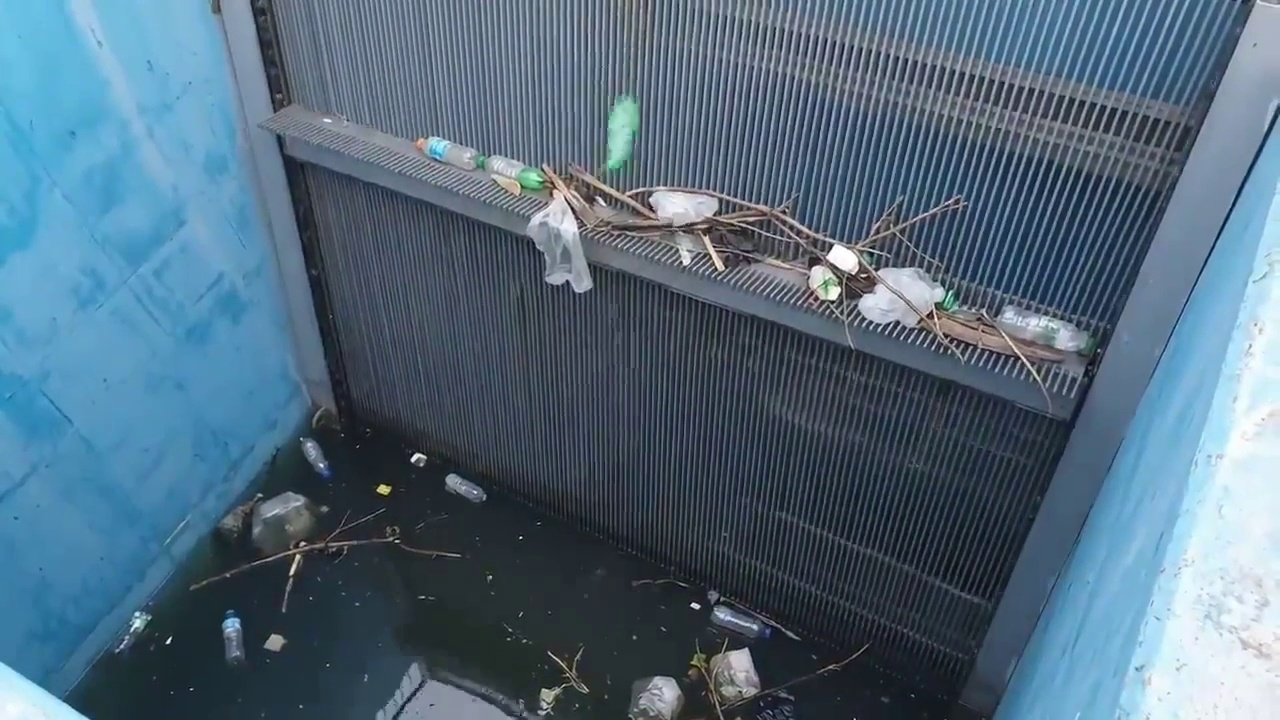debris: (541, 165, 1083, 395), (530, 165, 1079, 388), (571, 167, 965, 309), (573, 168, 964, 301), (573, 168, 964, 295), (626, 187, 841, 270), (189, 532, 460, 589), (936, 311, 1079, 408), (571, 167, 740, 249), (859, 261, 962, 358), (983, 311, 1083, 408), (723, 644, 868, 709), (626, 186, 786, 240), (936, 308, 1069, 368), (527, 190, 592, 292), (857, 196, 966, 249), (858, 267, 950, 326), (872, 198, 945, 272), (429, 666, 528, 717), (706, 589, 800, 640), (571, 165, 658, 220), (995, 305, 1092, 354), (251, 491, 323, 554), (542, 165, 612, 226), (717, 594, 800, 640), (375, 661, 433, 719), (538, 648, 588, 715), (708, 648, 760, 704), (689, 643, 724, 719), (606, 95, 639, 171), (701, 228, 760, 270), (649, 191, 718, 226), (627, 676, 683, 719), (216, 494, 262, 545), (415, 136, 482, 169), (482, 156, 547, 189), (712, 604, 770, 638), (326, 508, 385, 541), (547, 647, 588, 693), (114, 611, 152, 654), (384, 536, 461, 557), (869, 196, 905, 236), (221, 610, 245, 665), (1060, 341, 1095, 378), (281, 555, 303, 613), (300, 437, 331, 478), (808, 264, 841, 301), (444, 473, 486, 502), (751, 693, 796, 719), (698, 232, 726, 271), (826, 243, 859, 273), (759, 616, 800, 640), (538, 684, 568, 715), (163, 513, 190, 545), (673, 233, 698, 266), (1250, 251, 1275, 283), (852, 251, 886, 274), (326, 510, 349, 541), (490, 174, 522, 195), (310, 406, 338, 429), (632, 578, 690, 588), (414, 514, 448, 531), (689, 646, 706, 676), (950, 307, 983, 321), (263, 634, 286, 652), (778, 193, 798, 212), (320, 113, 348, 126), (410, 452, 428, 467), (706, 589, 720, 604), (414, 137, 426, 154), (503, 622, 518, 635), (375, 484, 392, 495), (384, 525, 400, 536), (592, 196, 607, 207), (315, 505, 328, 516), (689, 601, 701, 609), (362, 673, 369, 683), (164, 636, 171, 645), (417, 595, 432, 599), (535, 520, 543, 527), (486, 573, 492, 581), (659, 625, 667, 631), (517, 611, 523, 617), (517, 536, 523, 540)
